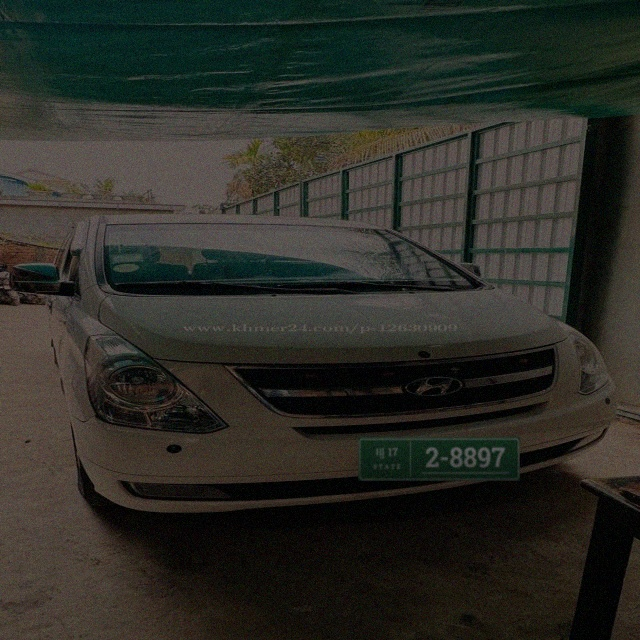Plate Number: (358, 438, 520, 481)
